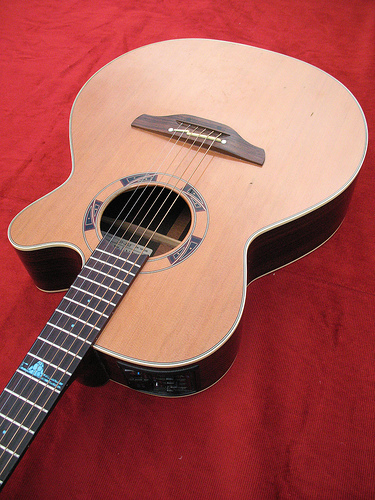guitar: (1, 38, 371, 491)
